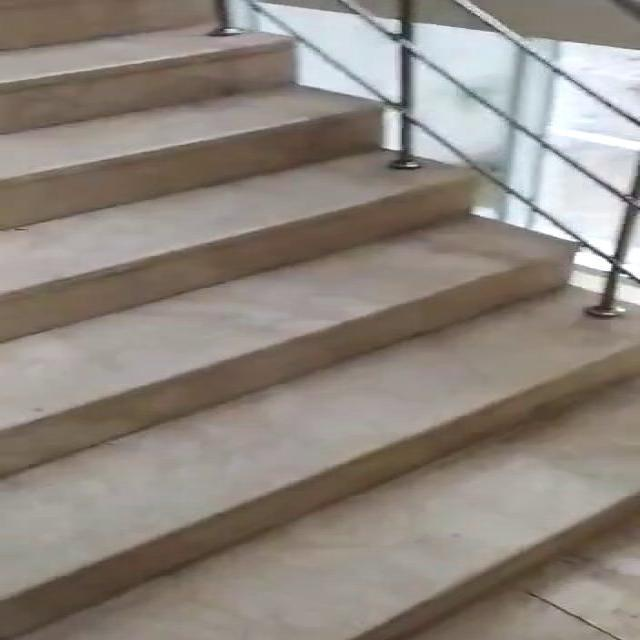stairs: (0, 18, 638, 639)
